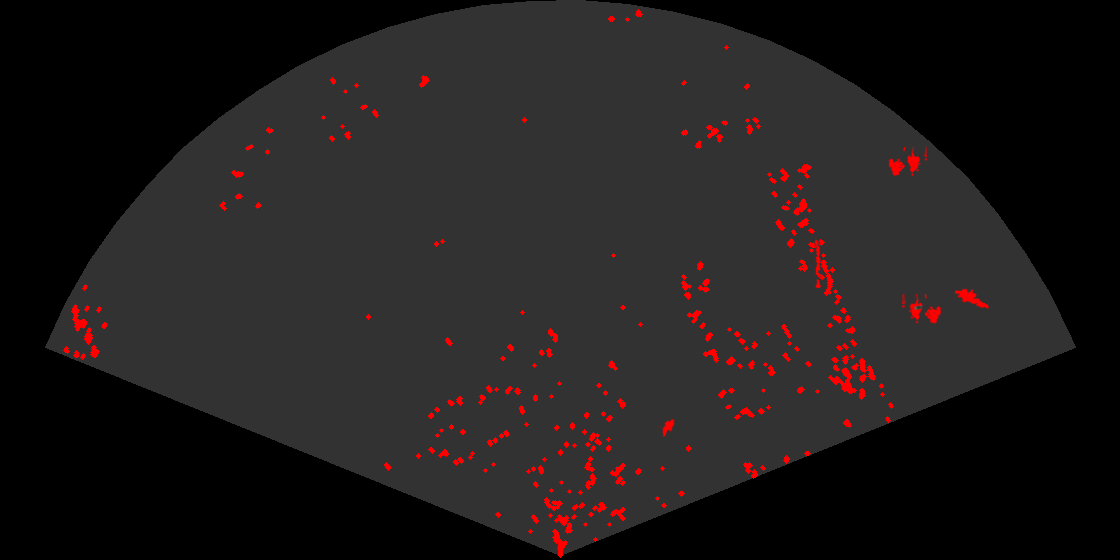AUV: (658, 417, 676, 438)
cage: (902, 294, 943, 325), (887, 147, 927, 178)
chain: (813, 238, 823, 288)
frogman: (955, 287, 990, 309)
